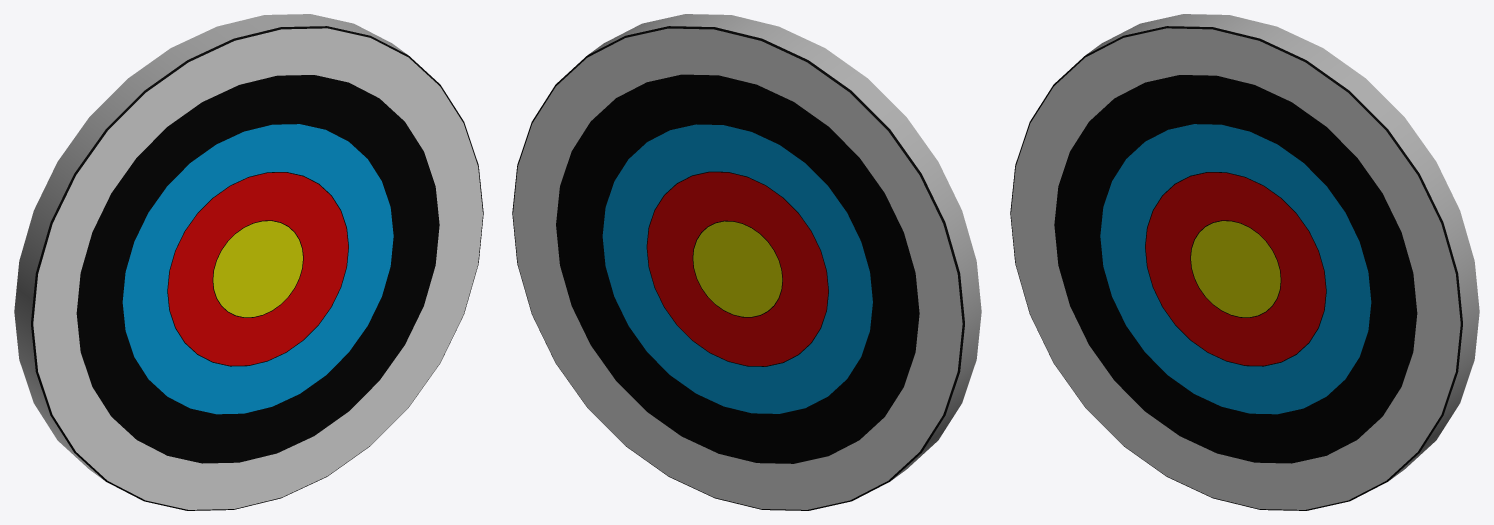
File: Easy_Board.fbx
The picture shows the model from 3 angles, left to right: view 1: azimuth 30°, elevation 25°; view 2: azimuth 150°, elevation 25°; view 3: azimuth 330°, elevation 25°; orthographic projection.
Visible parts, largest first — view 1: Ring4, Ring3, Ring2, Ring1, Center; view 2: Ring4, Ring3, Ring2, Ring1, Center; view 3: Ring4, Ring3, Ring2, Ring1, Center.
Boxes of the visible parts, x1,y1,x2,y2 form: Ring4: (14,14,483,510); Ring3: (77,75,439,462); Ring2: (122,123,393,414); Ring1: (167,172,348,366); Center: (213,220,303,317); Ring4: (512,14,981,510); Ring3: (556,75,918,463); Ring2: (602,123,873,414); Ring1: (647,172,828,366); Center: (692,220,782,317); Ring4: (1010,14,1479,510); Ring3: (1054,75,1416,462); Ring2: (1100,123,1371,414); Ring1: (1145,172,1326,366); Center: (1190,220,1280,317).
Bounding box in the file's own units: 0.9308 × 0.9257 × 0.0653.
